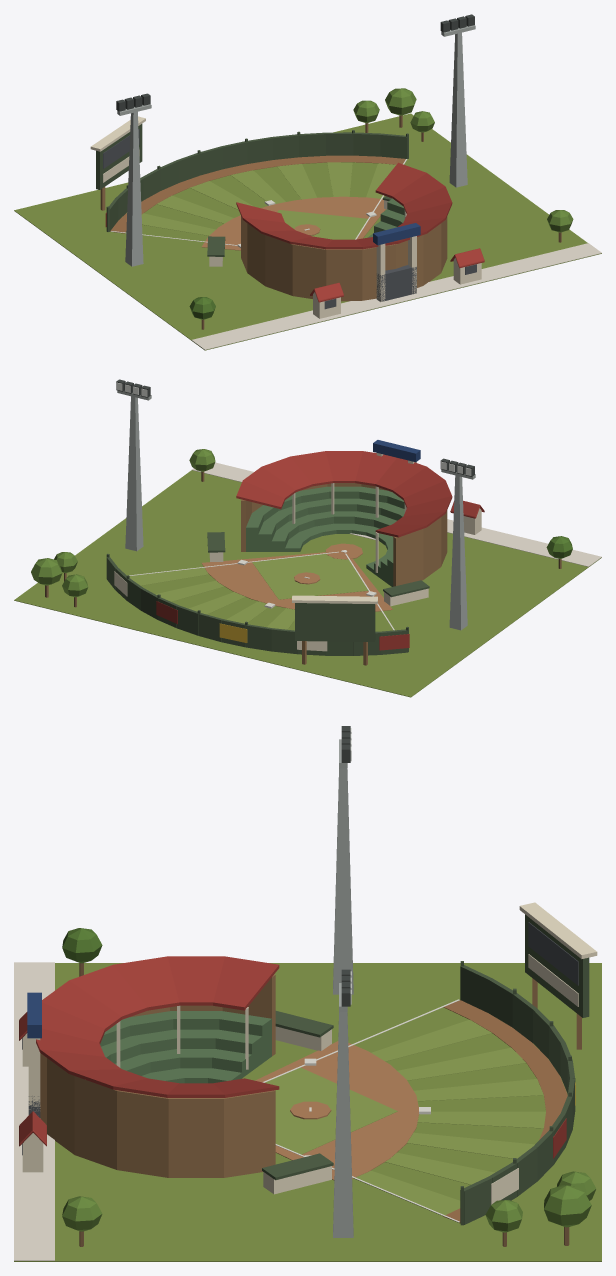
The model's file is ballpark.glb.
3 renders of one model, top to bottom at view 1: azimuth 30°, elevation 25°; view 2: azimuth 150°, elevation 25°; view 3: azimuth 270°, elevation 25°, orthographic. The views are drawn at different scales.
Parts seen in each view (by area): view 1: ballpark; view 2: ballpark; view 3: ballpark.
Boxes of the visible parts, x1,y1,x2,y2 form: ballpark: (14,14,601,350); ballpark: (14,379,601,697); ballpark: (14,726,601,1261).
Size of the model in its own units: 48 by 19 by 40.
